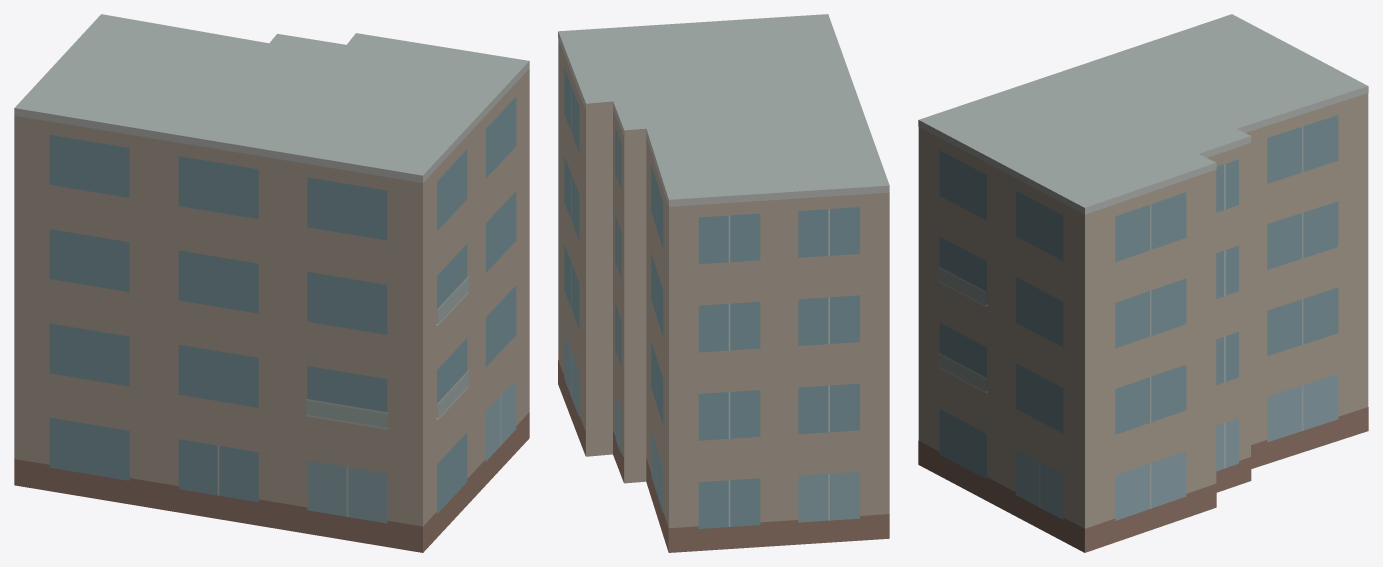
Rendered from survey-upis-32599099.glb.
3 renders of one model, left to right at view 1: azimuth 30°, elevation 25°; view 2: azimuth 150°, elevation 25°; view 3: azimuth 270°, elevation 25°, orthographic. The views are drawn at different scales.
Visible parts, largest first — view 1: survey-upis-32599099.tmp; view 2: survey-upis-32599099.tmp; view 3: survey-upis-32599099.tmp.
Part boxes in pixels (x1=…): survey-upis-32599099.tmp: x1=14, y1=14, x2=529, y2=552; survey-upis-32599099.tmp: x1=558, y1=14, x2=889, y2=552; survey-upis-32599099.tmp: x1=918, y1=14, x2=1368, y2=552.
Size of the model in its own units: 14.84 by 12.3 by 14.55.
